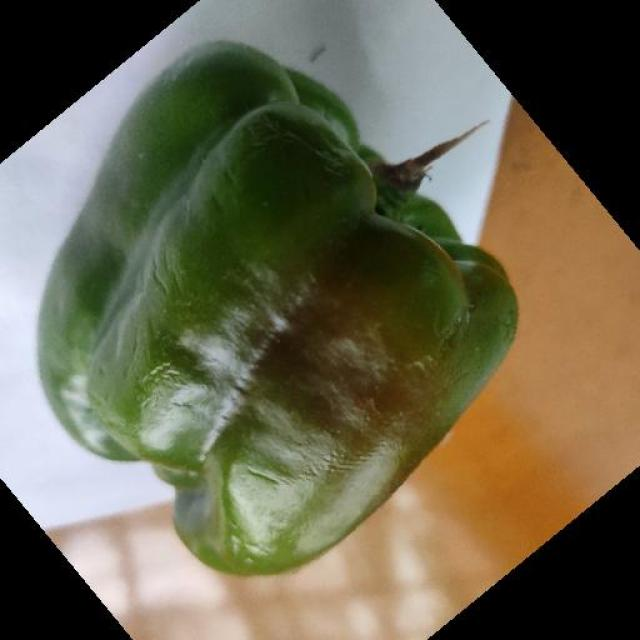Stale_Capsicum: (18, 136, 490, 554)
